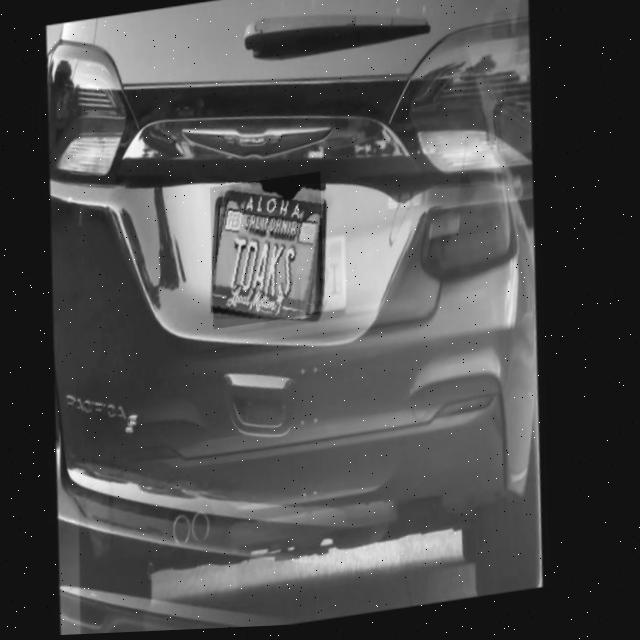LicensePlate: (205, 173, 339, 332)
